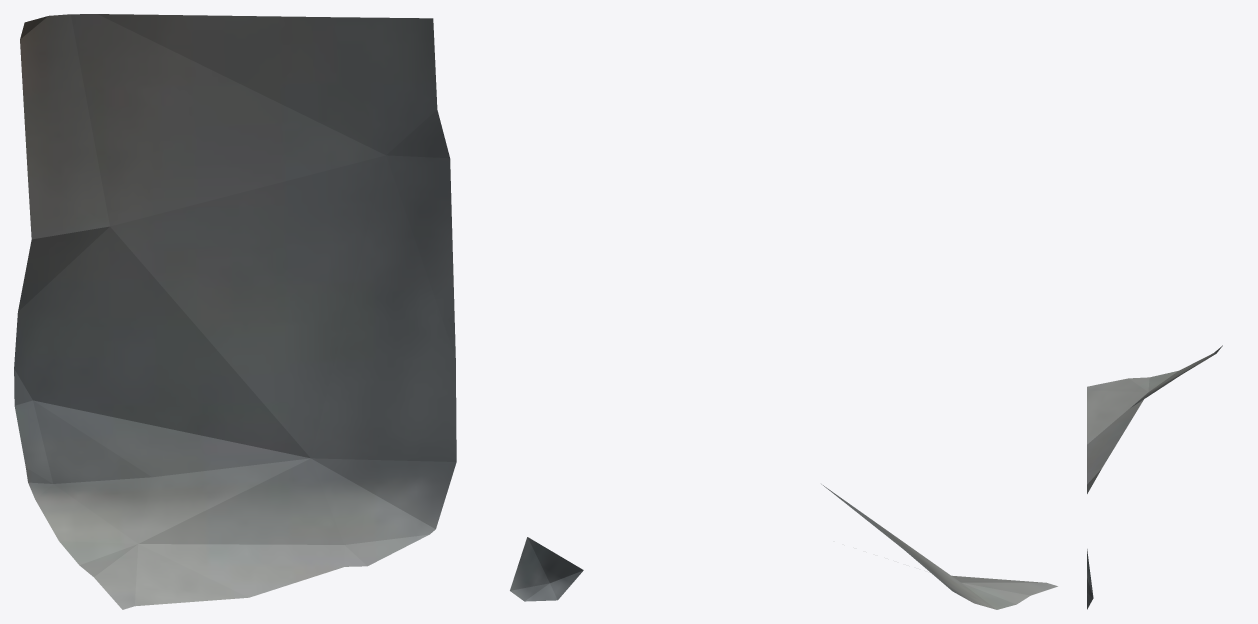
3 renders of one model, left to right at view 1: azimuth 30°, elevation 25°; view 2: azimuth 150°, elevation 25°; view 3: azimuth 270°, elevation 25°, orthographic. The views are drawn at different scales.
Bounding box in the file's own units: 0.3108 × 0.3943 × 0.1267.
Materials: 1 (1 with a texture image).
